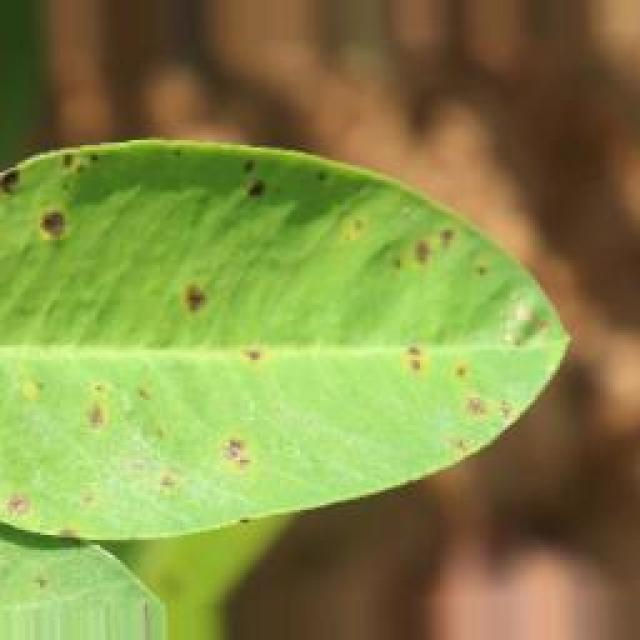Sigatoka: (372, 331, 516, 450), (439, 240, 554, 341), (0, 146, 104, 248), (336, 204, 459, 286), (196, 128, 292, 208), (4, 458, 96, 538), (57, 371, 133, 440), (157, 266, 230, 332), (125, 429, 189, 501), (211, 423, 262, 483), (224, 322, 278, 375), (206, 497, 279, 532)
